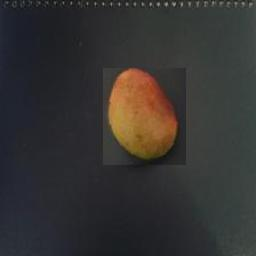Mango Semifresh: (103, 68, 186, 165)
